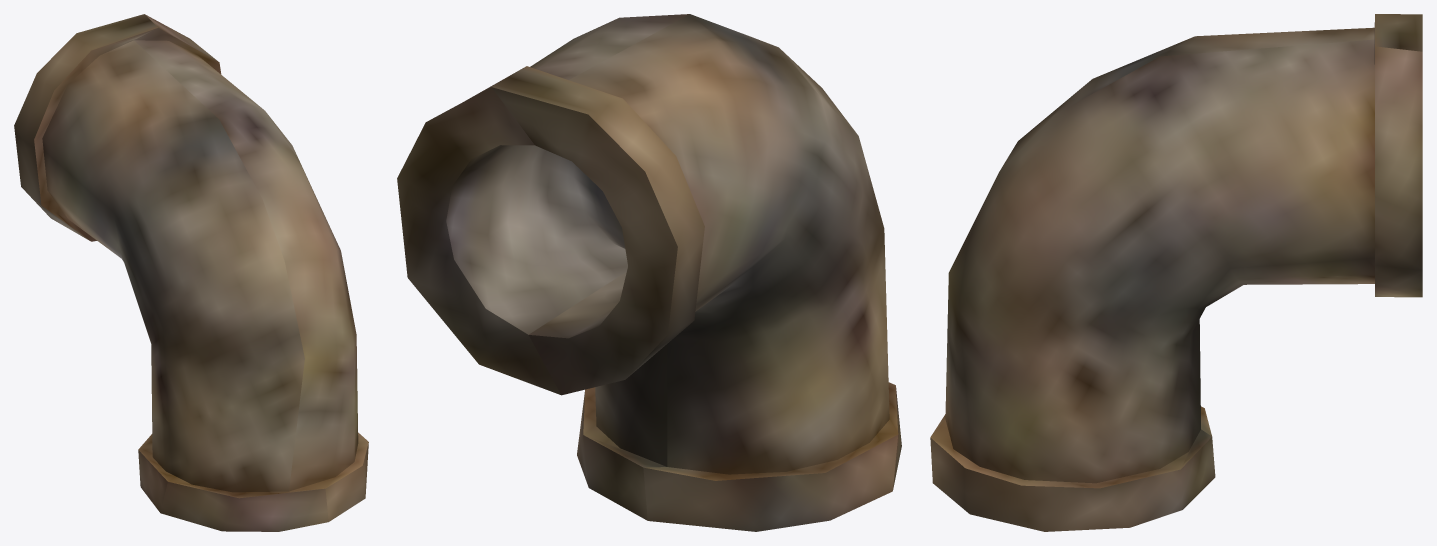
File: pipe-elbow-tight.lod1.glb
3 views of the same model, side by side, from view 1: azimuth 30°, elevation 25°; view 2: azimuth 150°, elevation 25°; view 3: azimuth 270°, elevation 25° (orthographic). The views are drawn at different scales.
Parts seen in each view (by area): view 1: pipe-elbow-tight; view 2: pipe-elbow-tight; view 3: pipe-elbow-tight.
Boxes of the visible parts, x1,y1,x2,y2 form: pipe-elbow-tight: (14, 14, 368, 531); pipe-elbow-tight: (397, 14, 901, 531); pipe-elbow-tight: (930, 14, 1422, 531).
Bounding box in the file's own units: 0.2826 × 0.4902 × 0.4941.
1 material, 1 textured.
